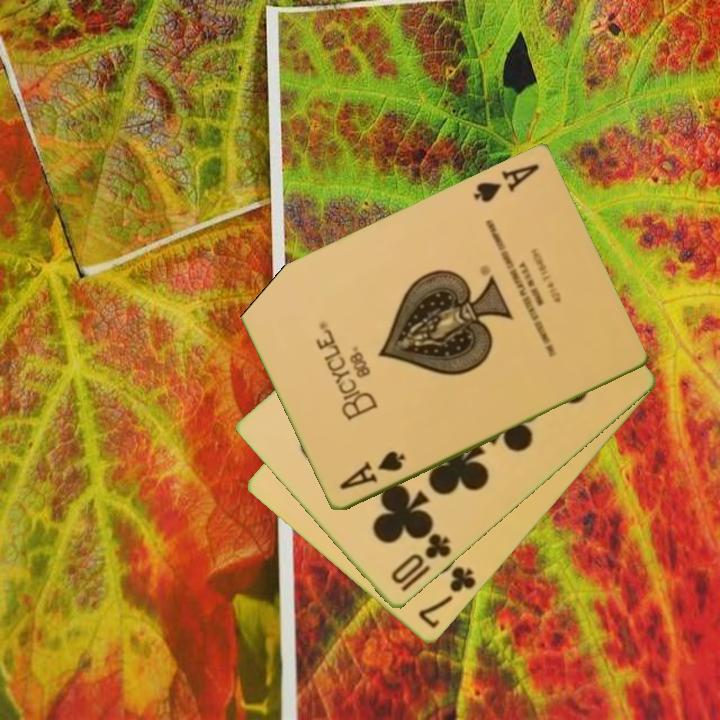10c: (387, 530, 455, 588)
7c: (415, 563, 480, 632)
As: (335, 448, 408, 494), (469, 161, 542, 207)
